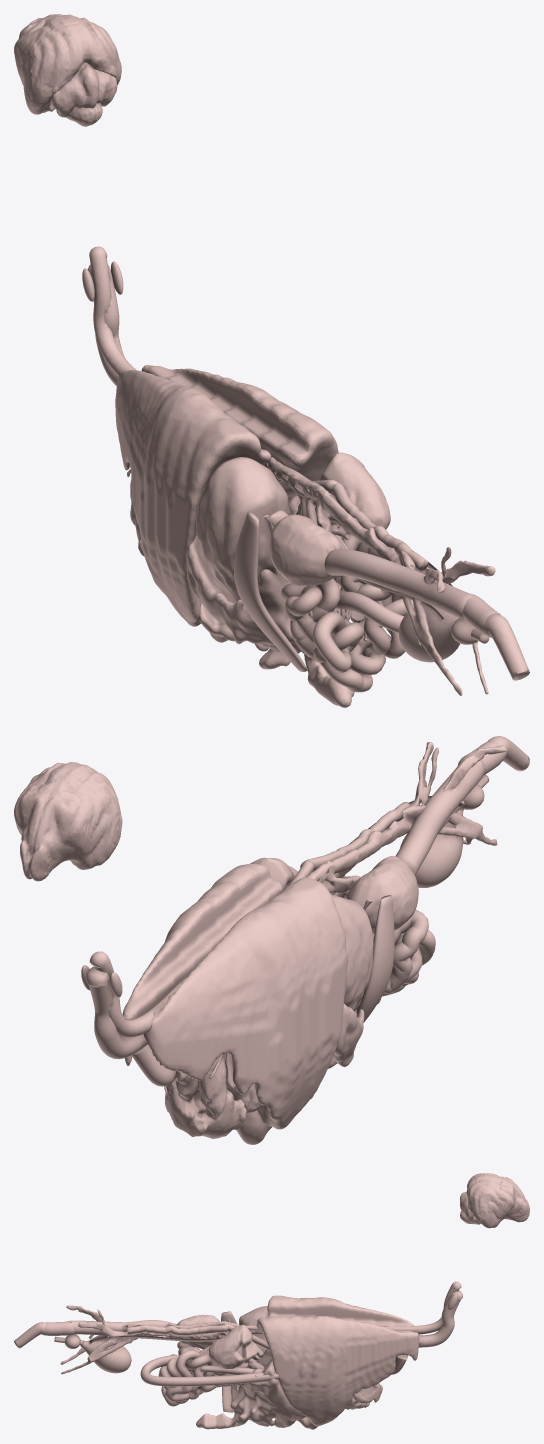
Rendered from visceral.glb.
3 renders of one model, top to bottom at view 1: azimuth 30°, elevation 25°; view 2: azimuth 150°, elevation 25°; view 3: azimuth 270°, elevation 25°, orthographic. The views are drawn at different scales.
Visible parts, largest first — view 1: dog_visceral_lungs_L, dog_visceral_small-intestine, dog_visceral_lungs_R, dog_visceral_stomach, dog_visceral_liver, dog_visceral_aorta, dog_visceral_brain_cerebrum, dog_visceral_large-intestine, dog_visceral_kidneys_L, dog_visceral_spleen, dog_visceral_kidneys_R, dog_visceral_brain_cerebellum (+4 smaller); view 2: dog_visceral_lungs_L, dog_visceral_brain_cerebrum, dog_visceral_lungs_R, dog_visceral_aorta, dog_visceral_heart, dog_visceral_large-intestine, dog_visceral_kidneys_L, dog_visceral_stomach, dog_visceral_small-intestine, dog_visceral_venae-cavae, dog_visceral_spleen, dog_visceral_trachea (+4 smaller); view 3: dog_visceral_lungs_R, dog_visceral_liver, dog_visceral_small-intestine, dog_visceral_brain_cerebrum, dog_visceral_aorta, dog_visceral_lungs_L, dog_visceral_kidneys_R, dog_visceral_large-intestine, dog_visceral_venae-cavae, dog_visceral_urinary-bladder, dog_visceral_trachea, dog_visceral_esophagus (+5 smaller).
Part boxes in pixels (bbox=[...]): dog_visceral_lungs_L: bbox=[115, 370, 271, 626]; dog_visceral_small-intestine: bbox=[281, 524, 413, 692]; dog_visceral_lungs_R: bbox=[141, 365, 338, 486]; dog_visceral_stomach: bbox=[196, 457, 292, 651]; dog_visceral_liver: bbox=[186, 496, 354, 707]; dog_visceral_aorta: bbox=[263, 457, 495, 695]; dog_visceral_brain_cerebrum: bbox=[14, 14, 121, 114]; dog_visceral_large-intestine: bbox=[275, 549, 529, 680]; dog_visceral_kidneys_L: bbox=[269, 514, 443, 621]; dog_visceral_spleen: bbox=[234, 511, 307, 671]; dog_visceral_kidneys_R: bbox=[313, 452, 452, 586]; dog_visceral_brain_cerebellum: bbox=[48, 62, 117, 117]; dog_visceral_lungs_L: bbox=[143, 877, 347, 1129]; dog_visceral_brain_cerebrum: bbox=[14, 762, 122, 881]; dog_visceral_lungs_R: bbox=[122, 864, 282, 1066]; dog_visceral_aorta: bbox=[176, 742, 507, 1081]; dog_visceral_heart: bbox=[165, 1054, 265, 1138]; dog_visceral_large-intestine: bbox=[373, 736, 529, 941]; dog_visceral_kidneys_L: bbox=[347, 803, 463, 933]; dog_visceral_stomach: bbox=[331, 895, 373, 1011]; dog_visceral_small-intestine: bbox=[330, 890, 435, 1004]; dog_visceral_venae-cavae: bbox=[132, 802, 411, 1086]; dog_visceral_spleen: bbox=[356, 895, 394, 1022]; dog_visceral_trachea: bbox=[86, 966, 147, 1059]; dog_visceral_lungs_R: bbox=[256, 1316, 418, 1426]; dog_visceral_liver: bbox=[196, 1349, 317, 1429]; dog_visceral_small-intestine: bbox=[140, 1341, 279, 1406]; dog_visceral_brain_cerebrum: bbox=[466, 1173, 529, 1228]; dog_visceral_aorta: bbox=[60, 1305, 263, 1392]; dog_visceral_lungs_L: bbox=[267, 1295, 414, 1326]; dog_visceral_kidneys_R: bbox=[88, 1324, 263, 1368]; dog_visceral_large-intestine: bbox=[14, 1320, 240, 1392]; dog_visceral_venae-cavae: bbox=[126, 1323, 407, 1374]; dog_visceral_urinary-bladder: bbox=[54, 1336, 131, 1373]; dog_visceral_trachea: bbox=[418, 1290, 462, 1347]; dog_visceral_esophagus: bbox=[381, 1281, 461, 1334].
Bounding box in the file's own units: 0.1118 × 0.3485 × 0.632.
